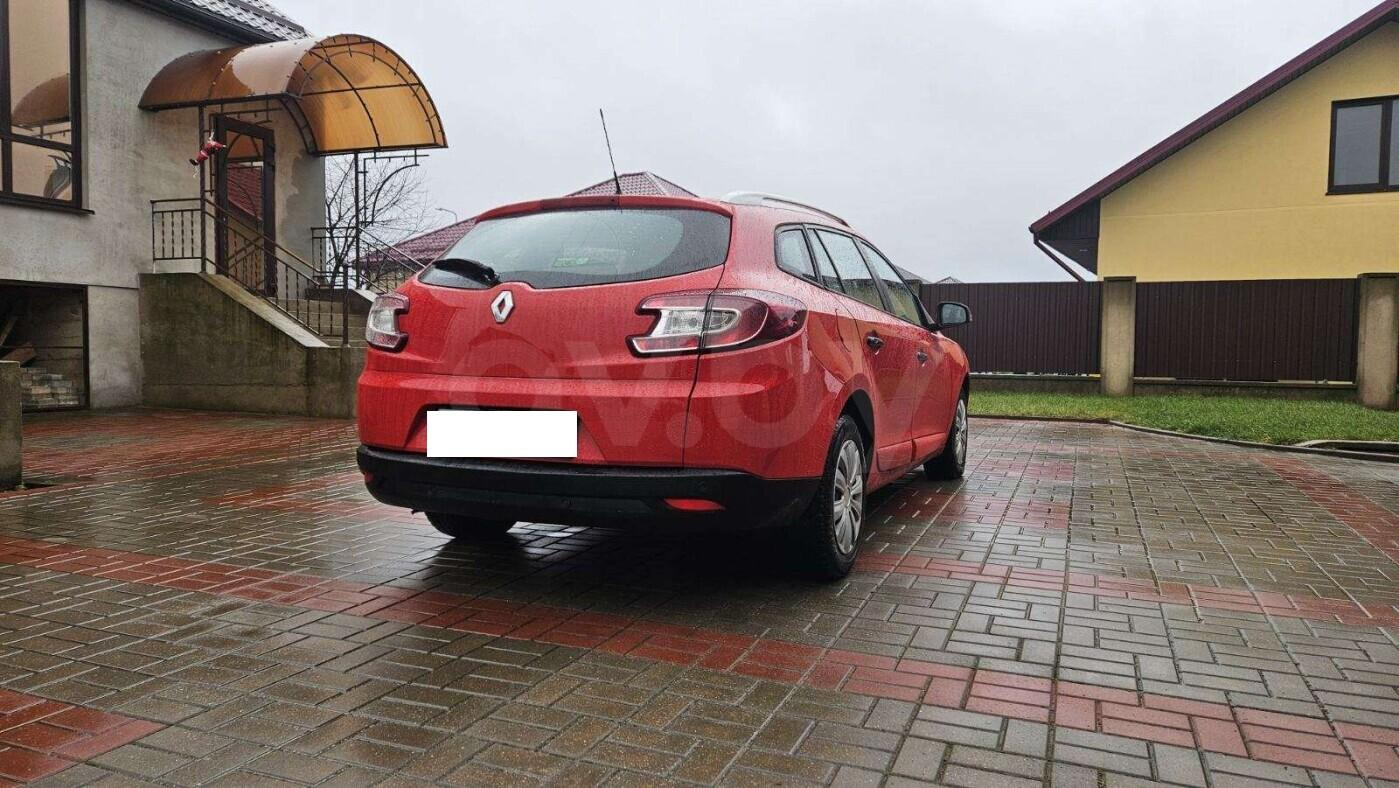Megane_2012-2014: (349, 185, 983, 592)
